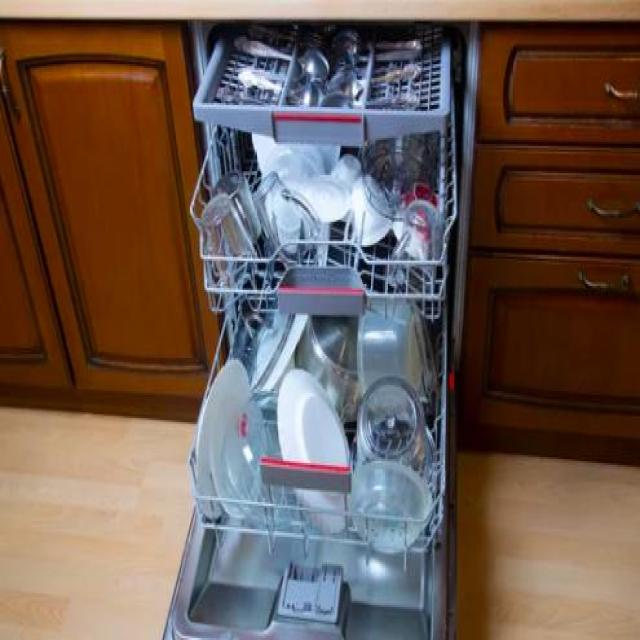dishwasher: (159, 21, 469, 640)
